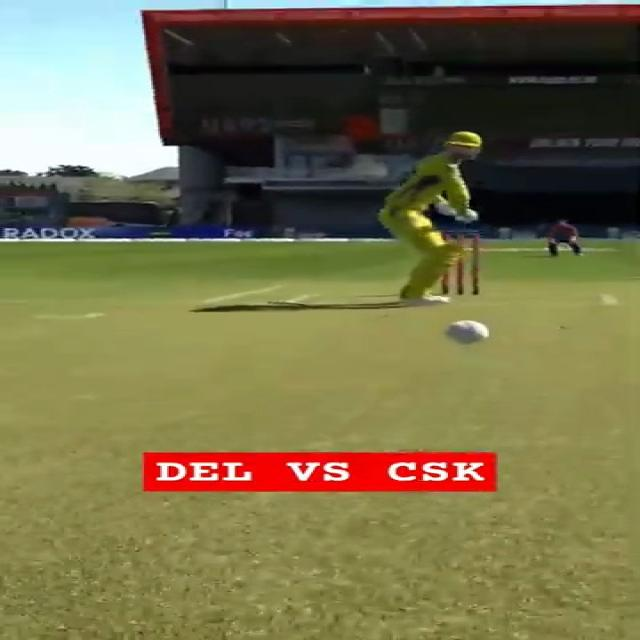ball: (443, 319, 492, 348)
